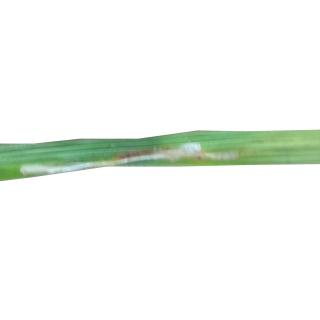Hawar-Daun: (113, 150, 243, 163), (20, 158, 78, 172)
